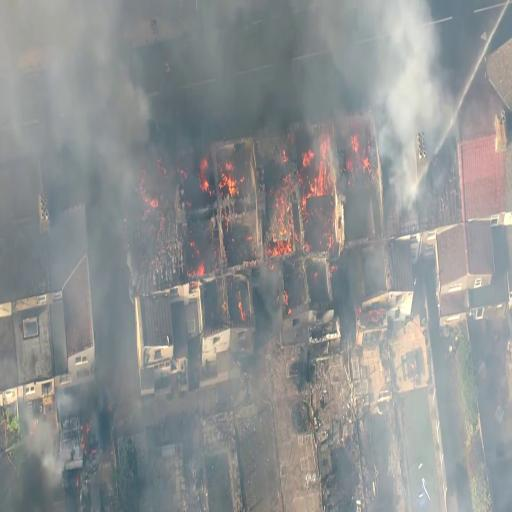fire: (292, 121, 331, 196), (265, 176, 293, 248)
smoke: (22, 0, 124, 133), (364, 5, 441, 145)
